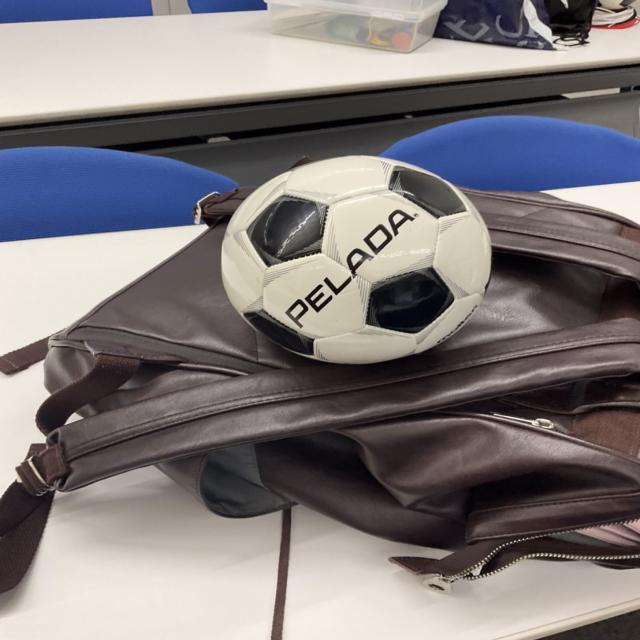ball: (220, 158, 489, 366)
